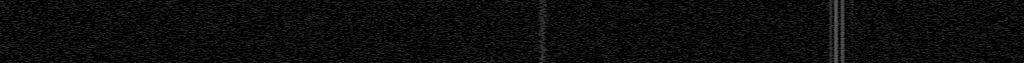wv_am: (840, 0, 845, 63)
wv_cw: (833, 0, 839, 63), (828, 0, 833, 63)
wv_lsb: (543, 53, 548, 63), (543, 43, 548, 52), (544, 12, 548, 20), (544, 21, 548, 28), (544, 3, 547, 7)
wv_usb: (850, 1, 855, 51), (850, 52, 854, 63)
wv_wbfm: (536, 0, 549, 63)
